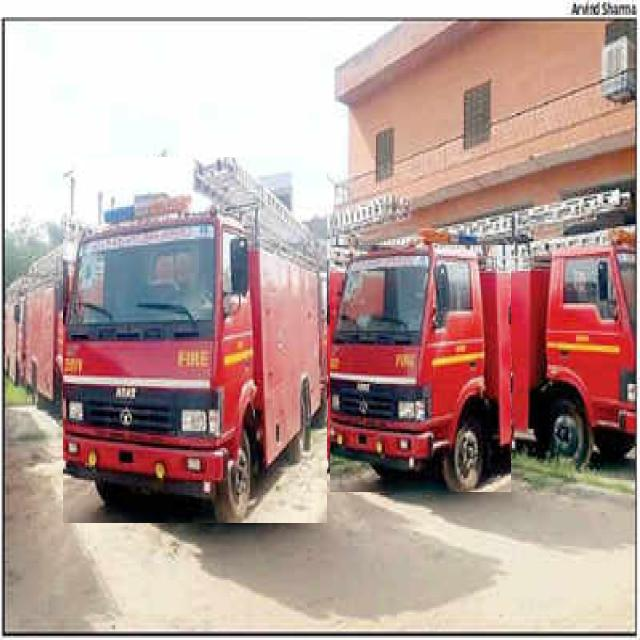emergency: (64, 157, 327, 523), (330, 245, 511, 492)
